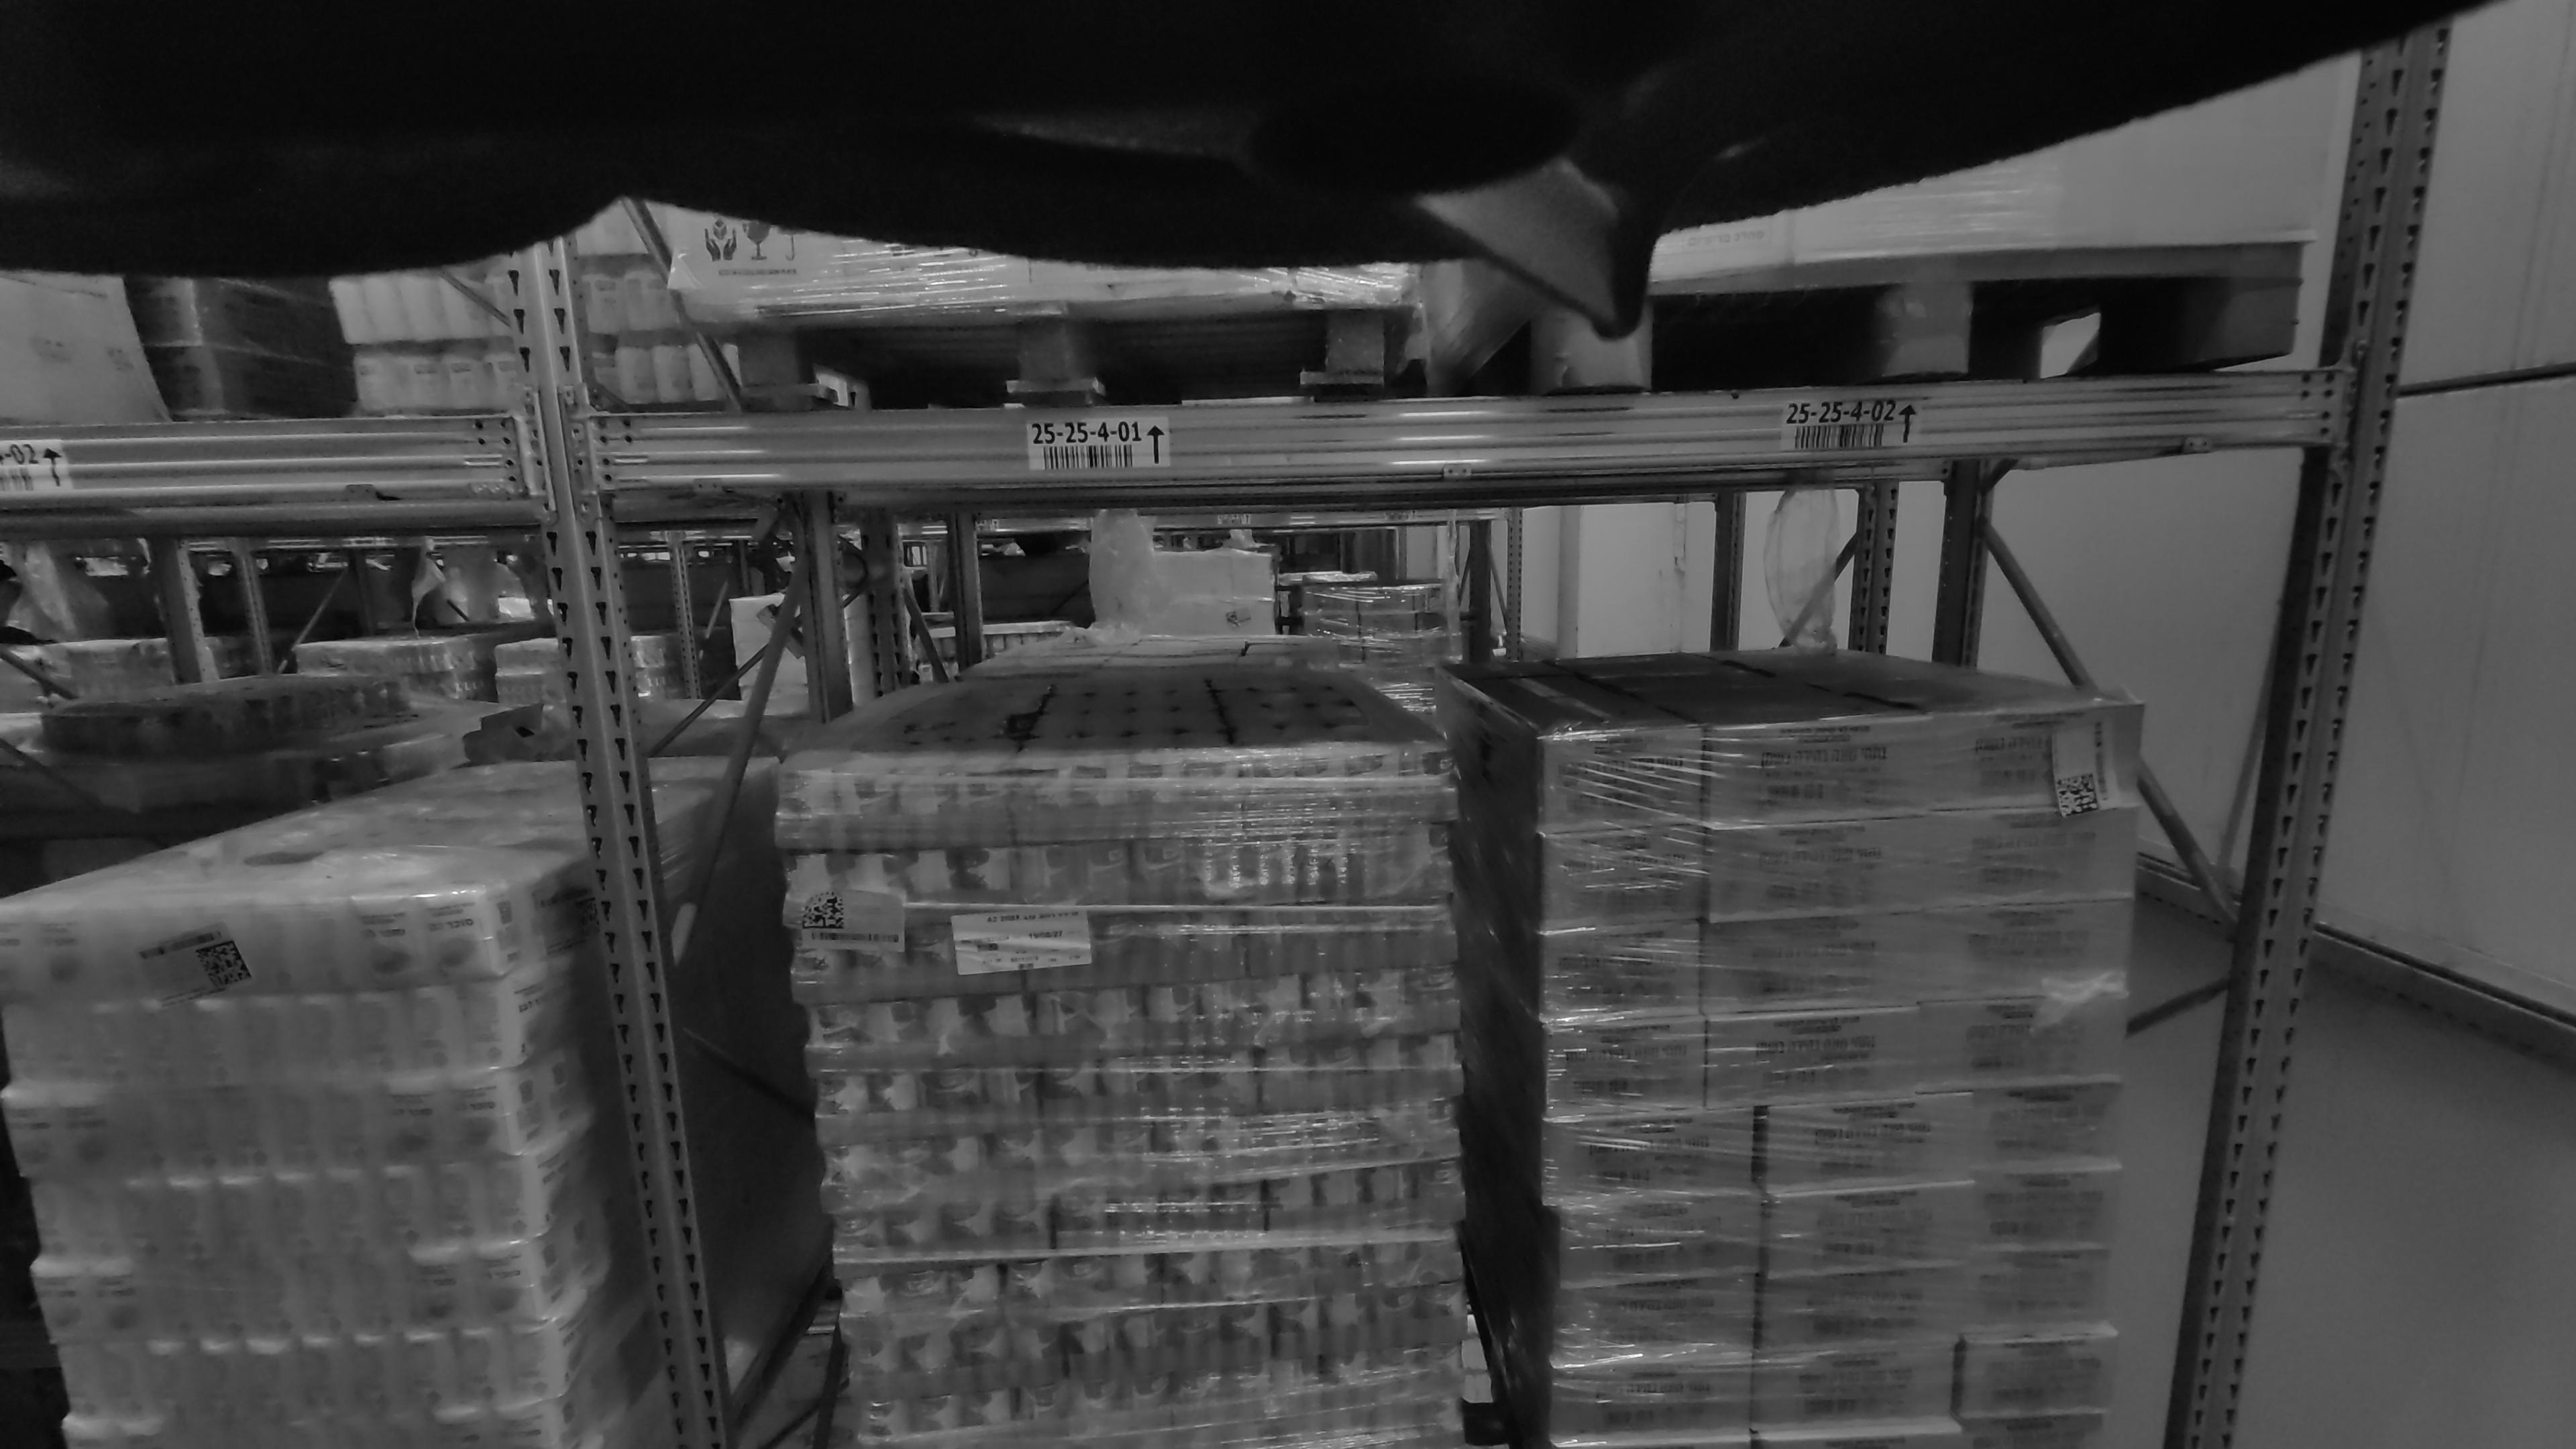empty-shelf: (0, 246, 501, 423)
